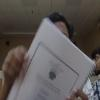notebook: (4, 16, 96, 99)
